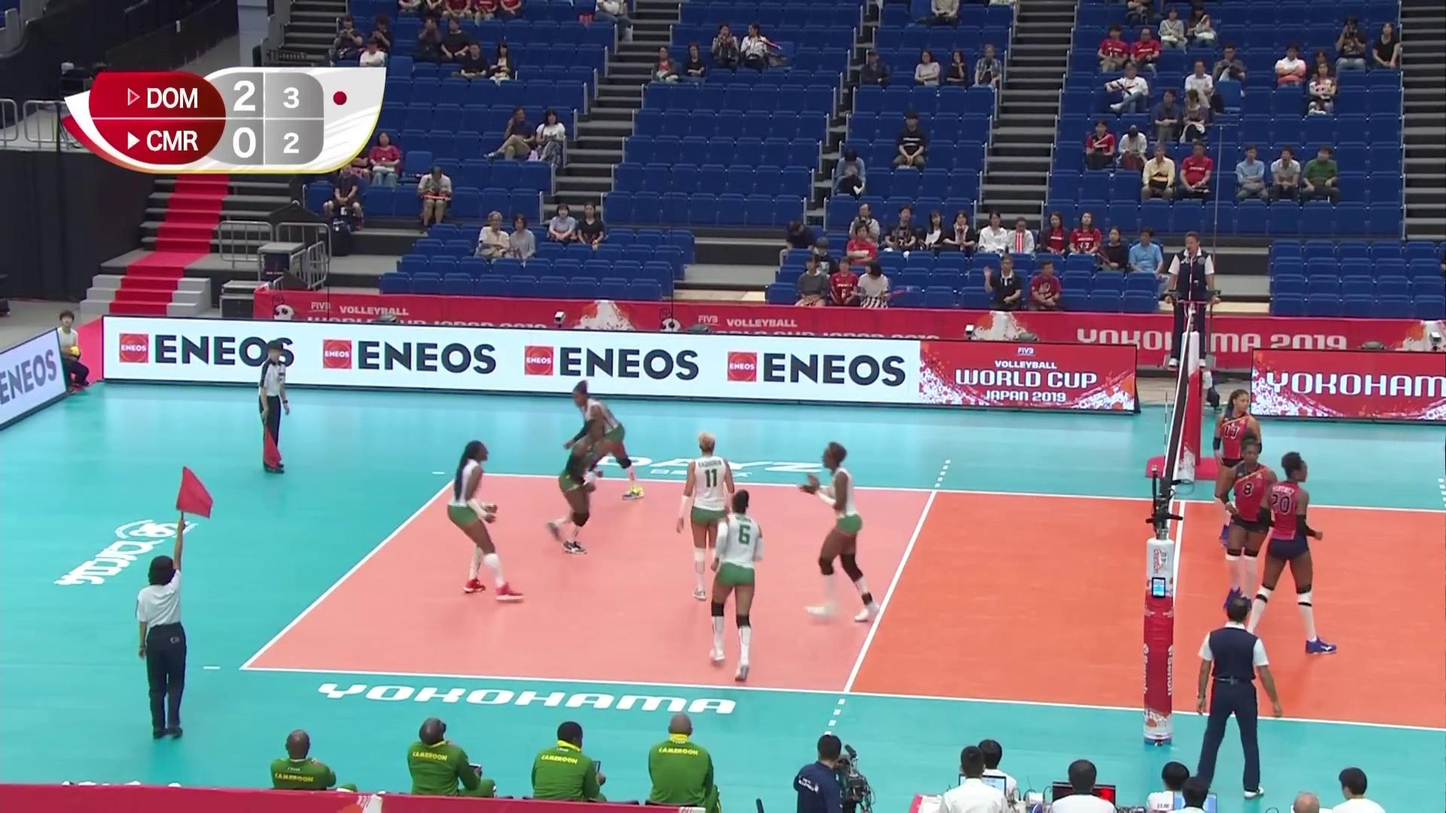player: (1231, 454, 1336, 655), (446, 441, 534, 603), (801, 440, 878, 621), (709, 490, 769, 684), (675, 435, 741, 602), (566, 377, 646, 506), (1210, 389, 1265, 567), (1227, 439, 1279, 619), (544, 418, 609, 558)
refree: (130, 465, 208, 744), (1192, 599, 1278, 799), (1170, 232, 1216, 370), (257, 339, 293, 470)
